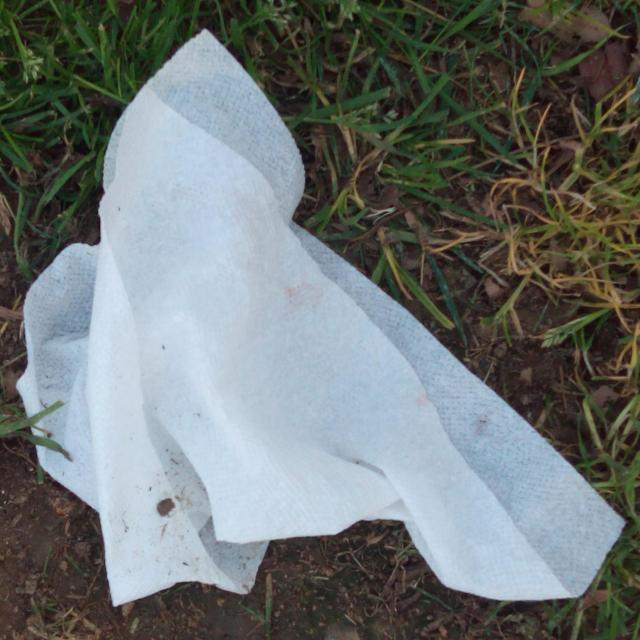litter: (15, 26, 628, 605)
